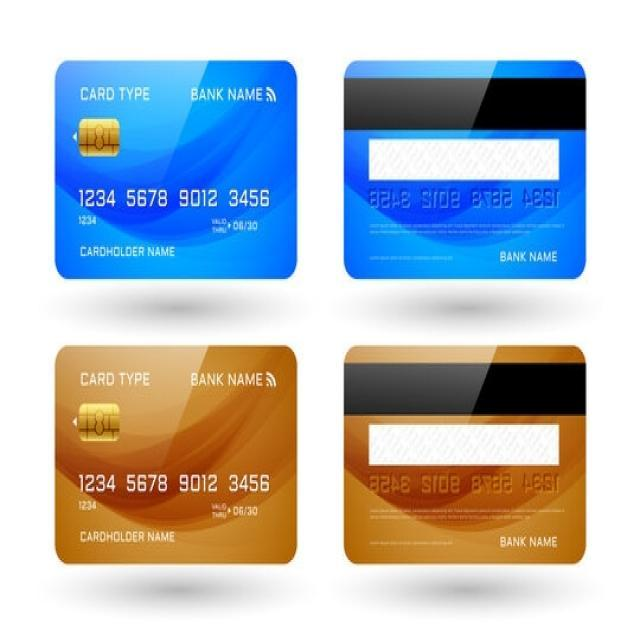payment_card: (53, 58, 297, 279), (342, 58, 586, 279), (342, 344, 586, 564), (54, 344, 297, 564)
